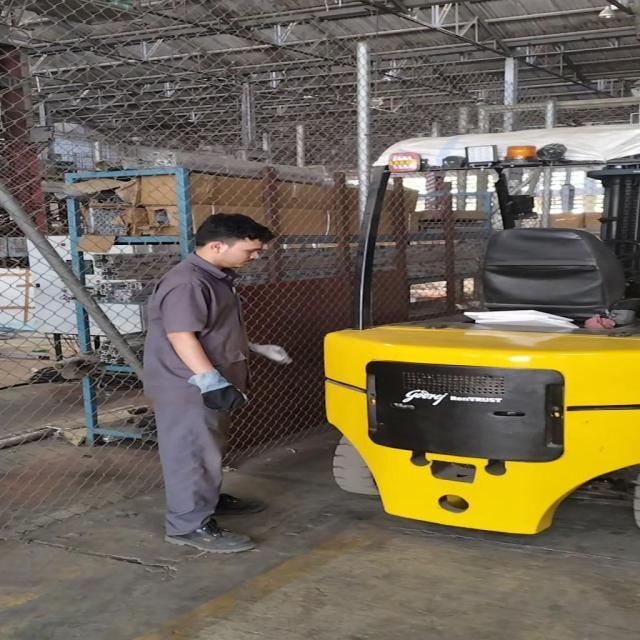Gloves-Detection: (182, 372, 243, 409), (245, 336, 290, 371)
